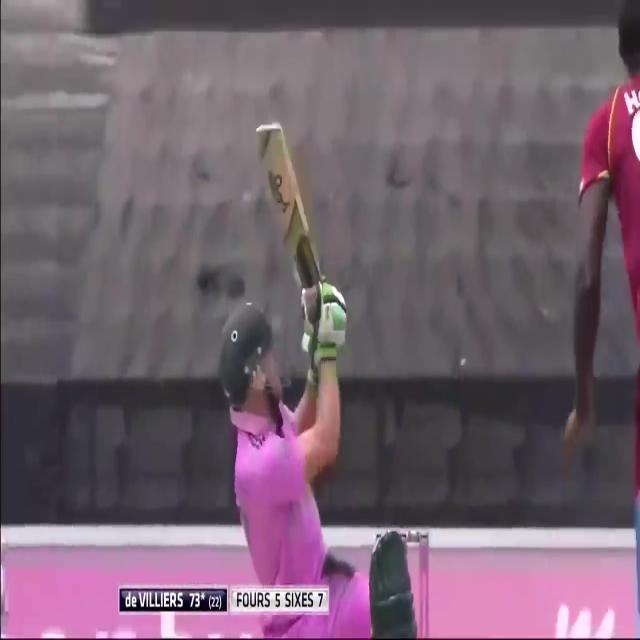Ball: (198, 301, 365, 595)
Fielder: (565, 1, 640, 595)
